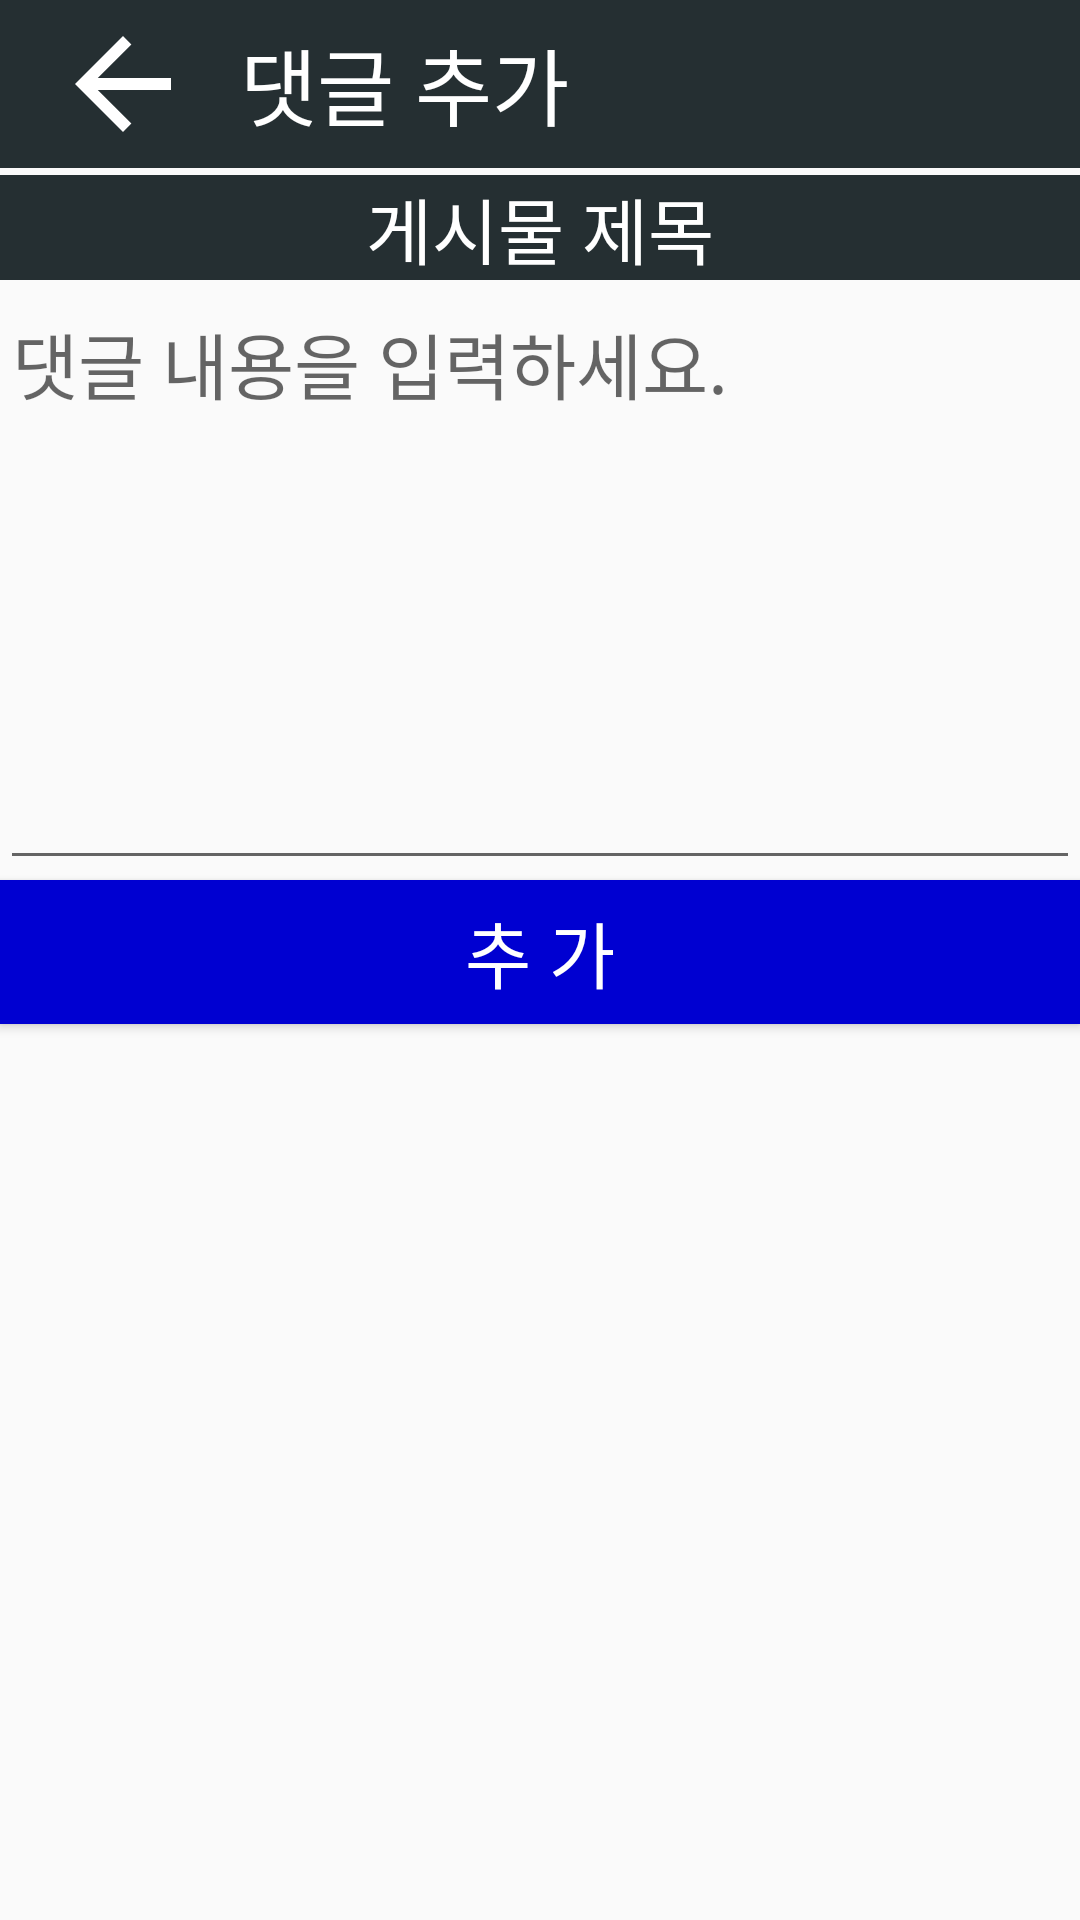

Where to tap for icons on this 1080w x 1920h app screen, as (x=x, y=y):
back toolbar: (x=123, y=84)
